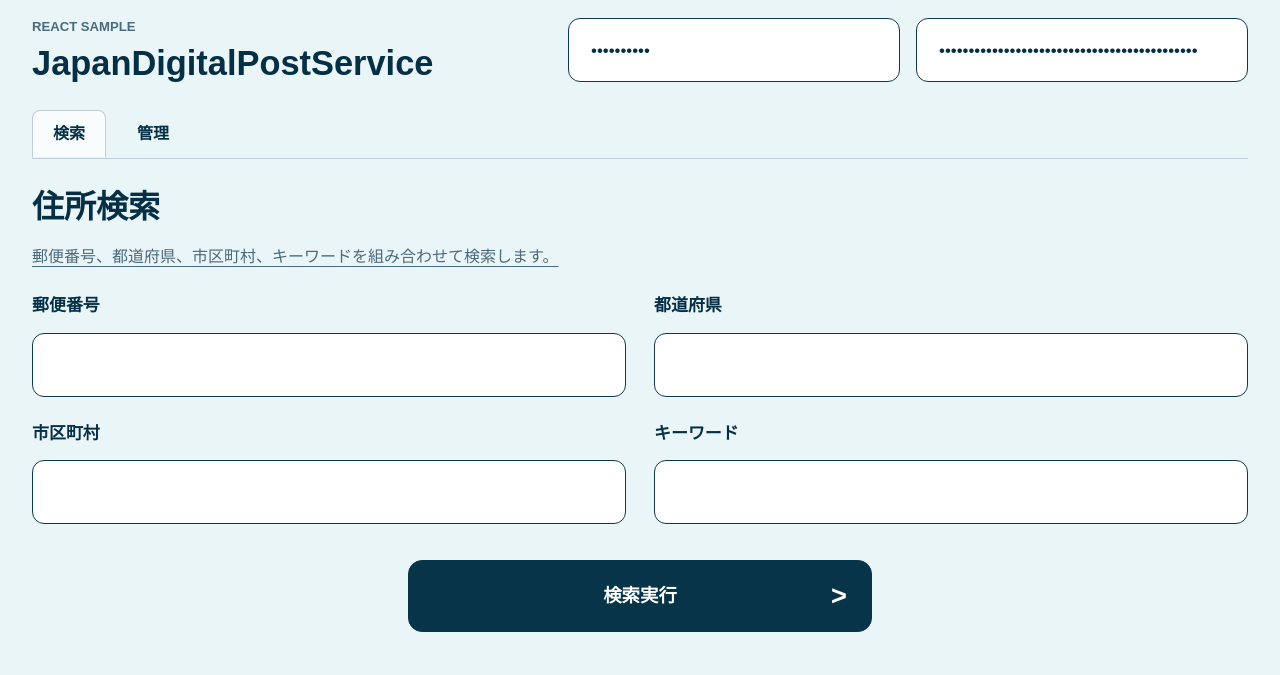
Scenario: App › shows a decrypt failure when the configured AES-GCM key does not match
This screenshot has width=1280, height=675.
Type "1000001" into the field labelled "郵便番号" at (329, 365), box [32,333,626,397]
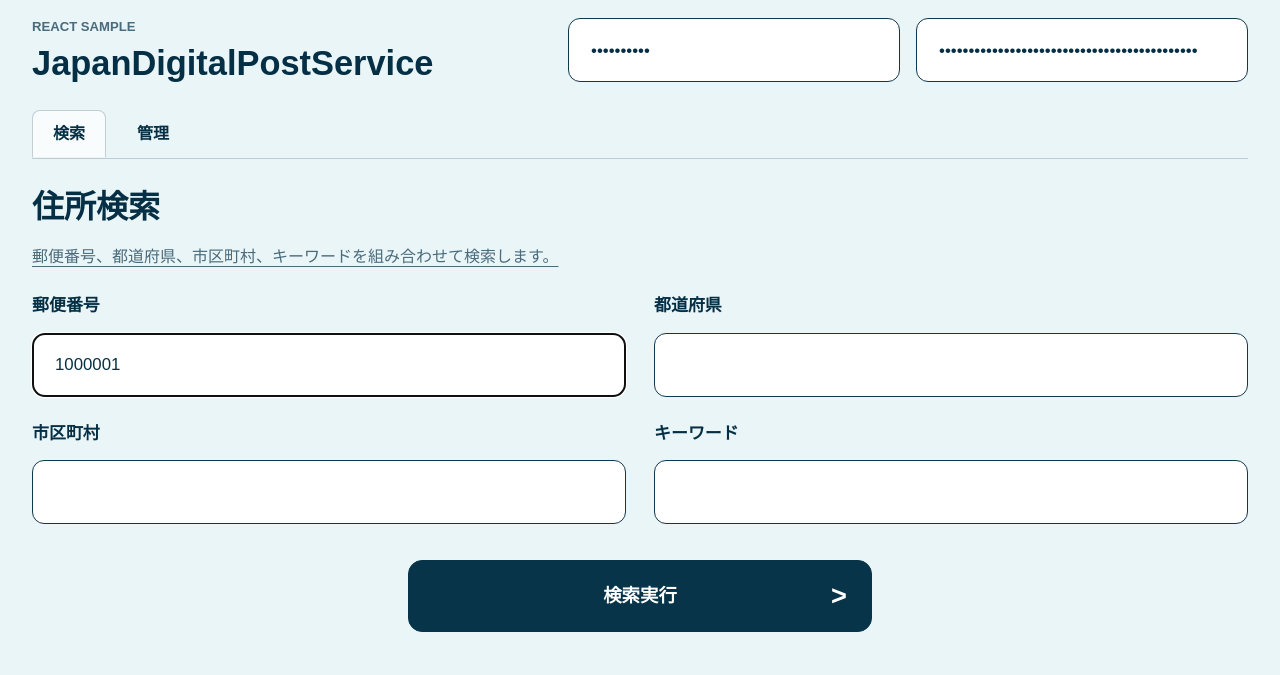
Click the button "検索実行" at (640, 596), box [408,560,872,632]
(page scrolled)
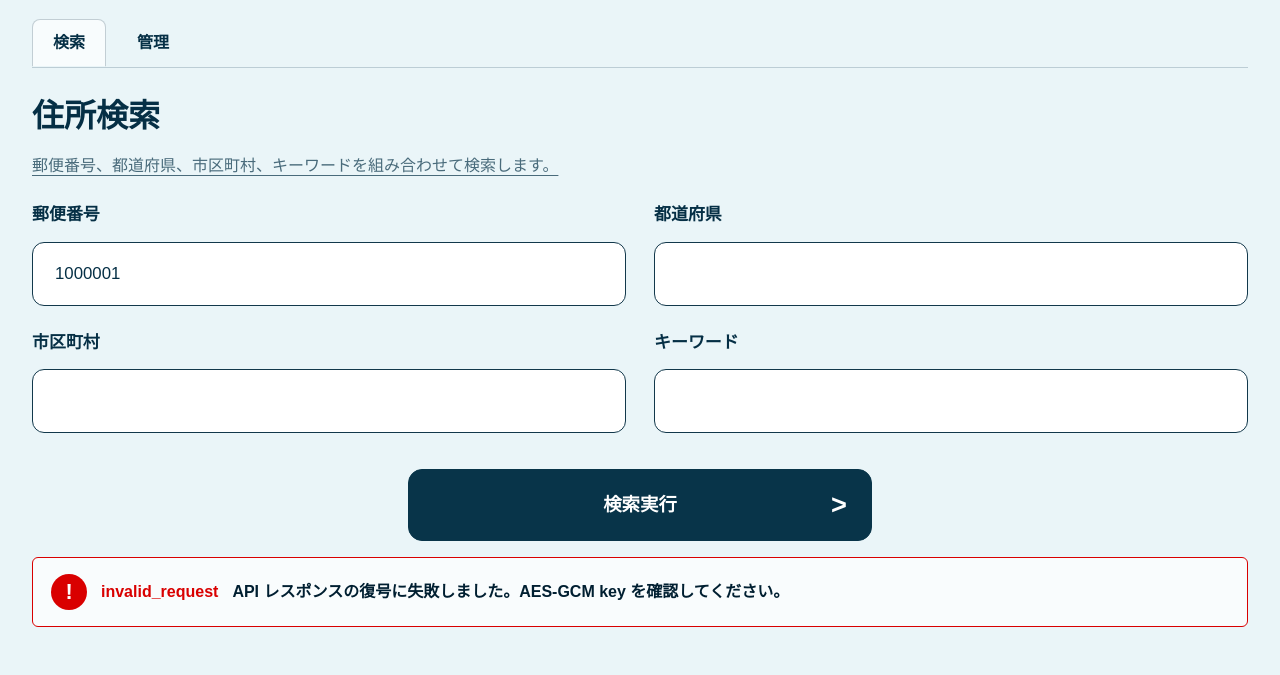
Result: the message shows "復号に失敗しました" at [232,583,789,600]
